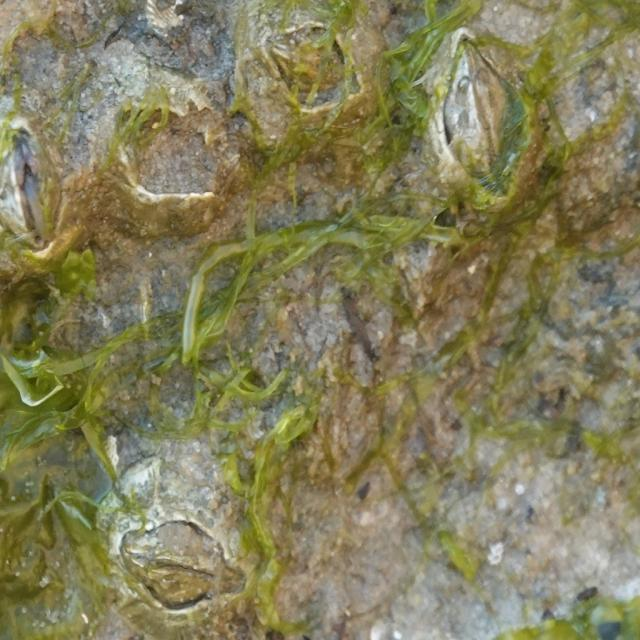barnacles: (76, 468, 263, 626), (411, 33, 548, 228), (248, 15, 380, 156), (0, 104, 96, 280)
